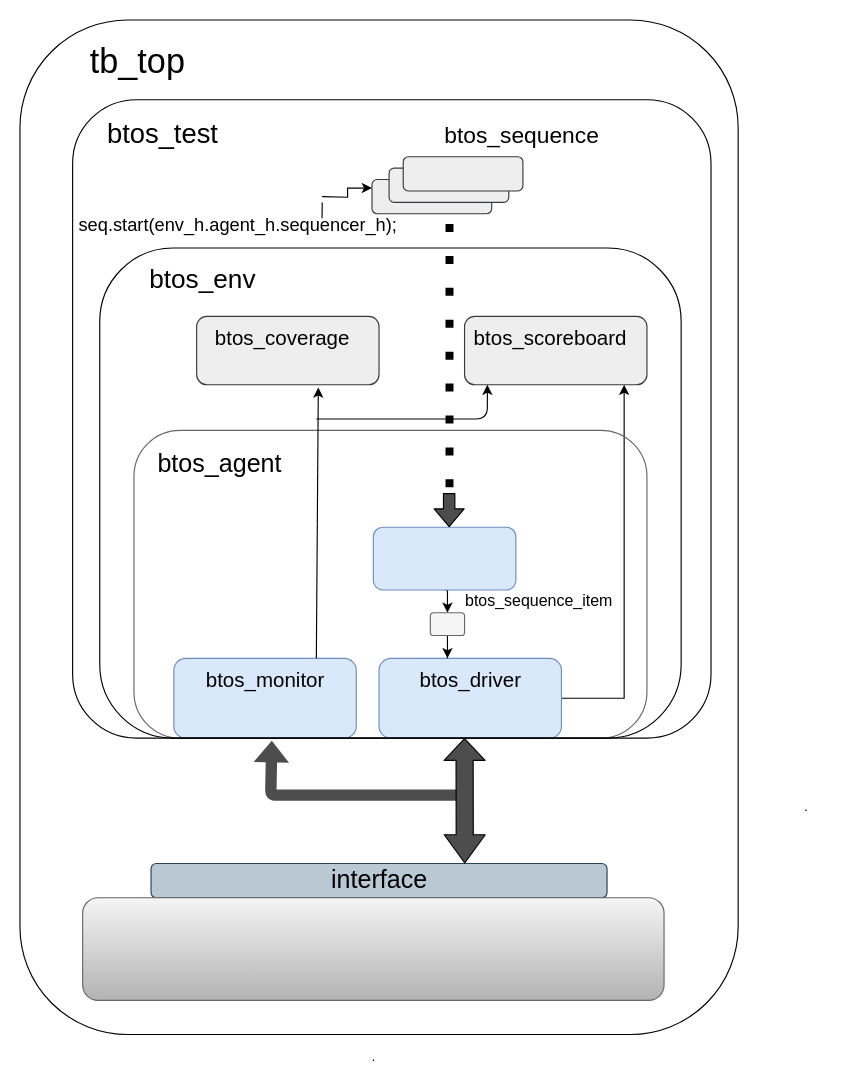
Image size: 849x1089. Some labels were removed from this diagram. The shapes that lost their labels are listed below. From the top down, each one's box as (x1, y1, x2, y2) in pixels, then its label:
(372, 526, 516, 590): btos_sequencer
(82, 897, 664, 1000): DUT
